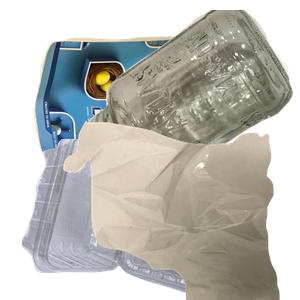glass: (86, 10, 300, 184)
paper: (31, 34, 252, 205)
plastic: (19, 139, 249, 300)
trash: (61, 120, 300, 300)
